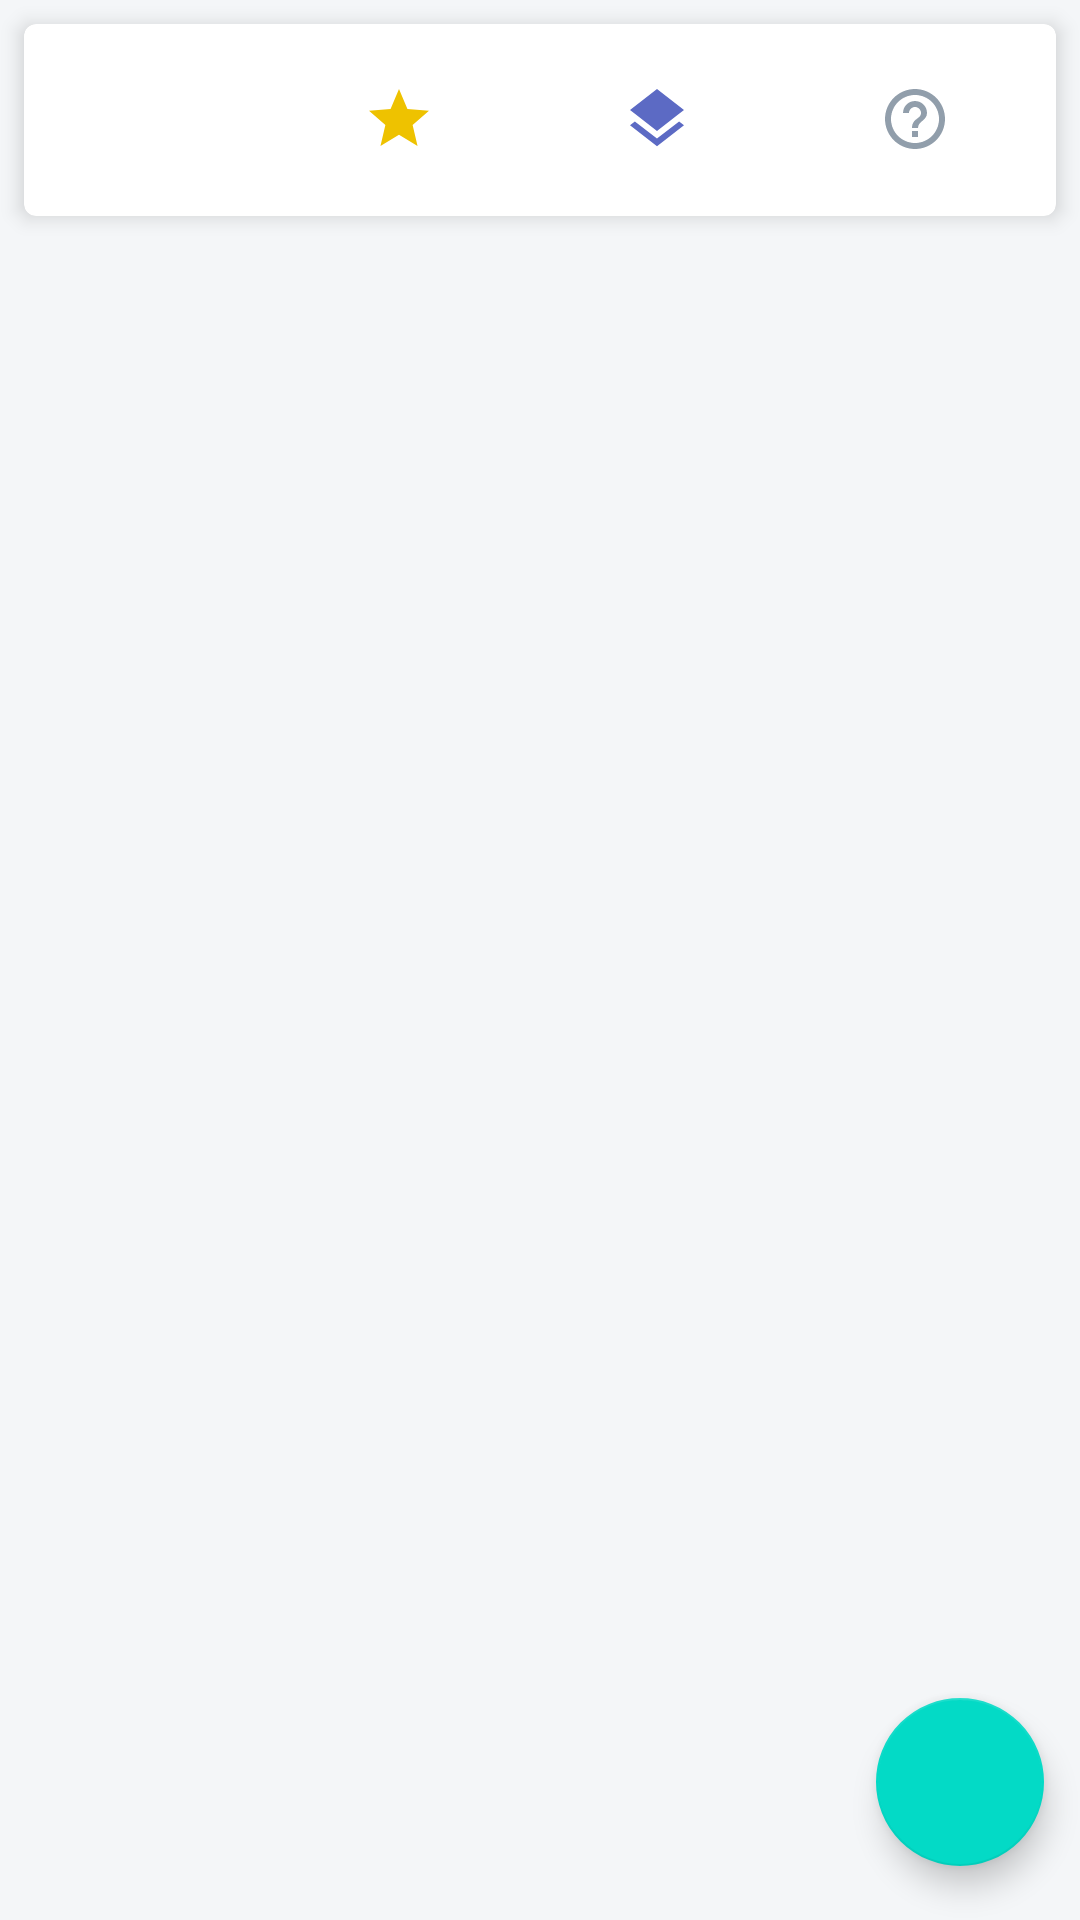

Locate icon controls on the screen. Image size 1080 × 1920, boxes as [left=x1, top=y1, right=x2, bottom=y2].
help: [left=885, top=89, right=945, bottom=149]
layers: [left=630, top=89, right=684, bottom=146]
star: [left=369, top=89, right=429, bottom=146]
